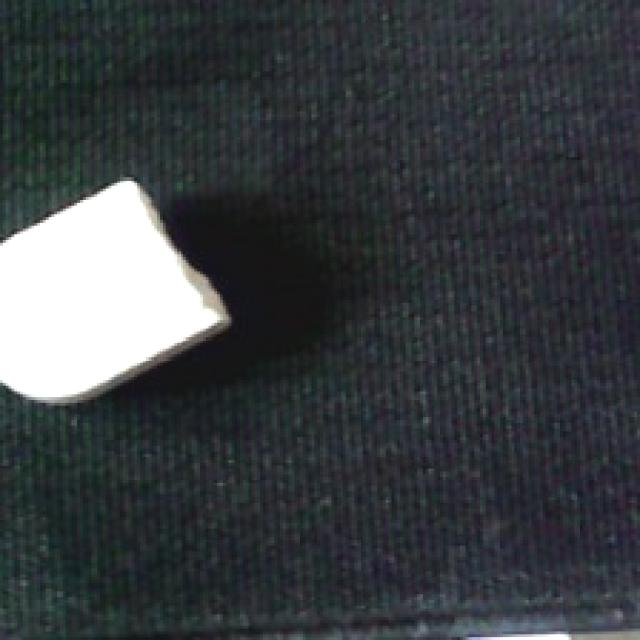defected: (0, 172, 240, 414)
